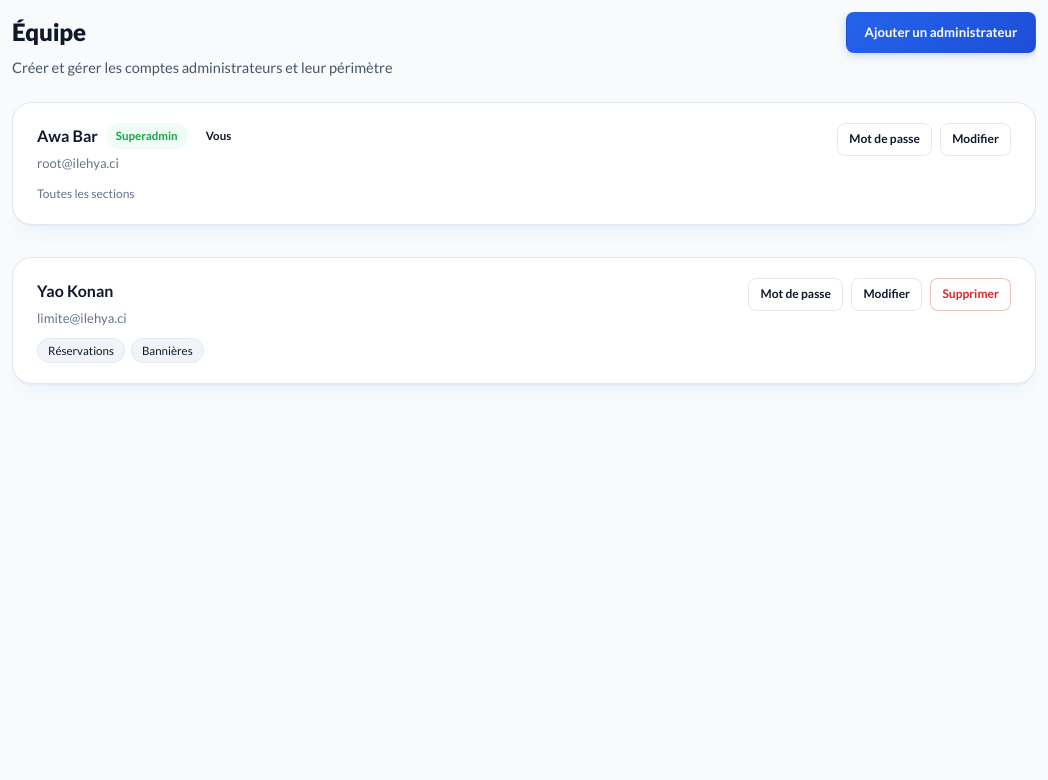
AdminEquipePage — modification du périmètre › masque les cases de sections quand le compte est promu superadmin
The image size is (1048, 780).
Check: the text "Yao Konan" is shown, box top-left (37, 278), bottom-right (113, 304)
Click the button "Modifier" in the row of "Konan": (887, 294) top-left (851, 278), bottom-right (922, 311)
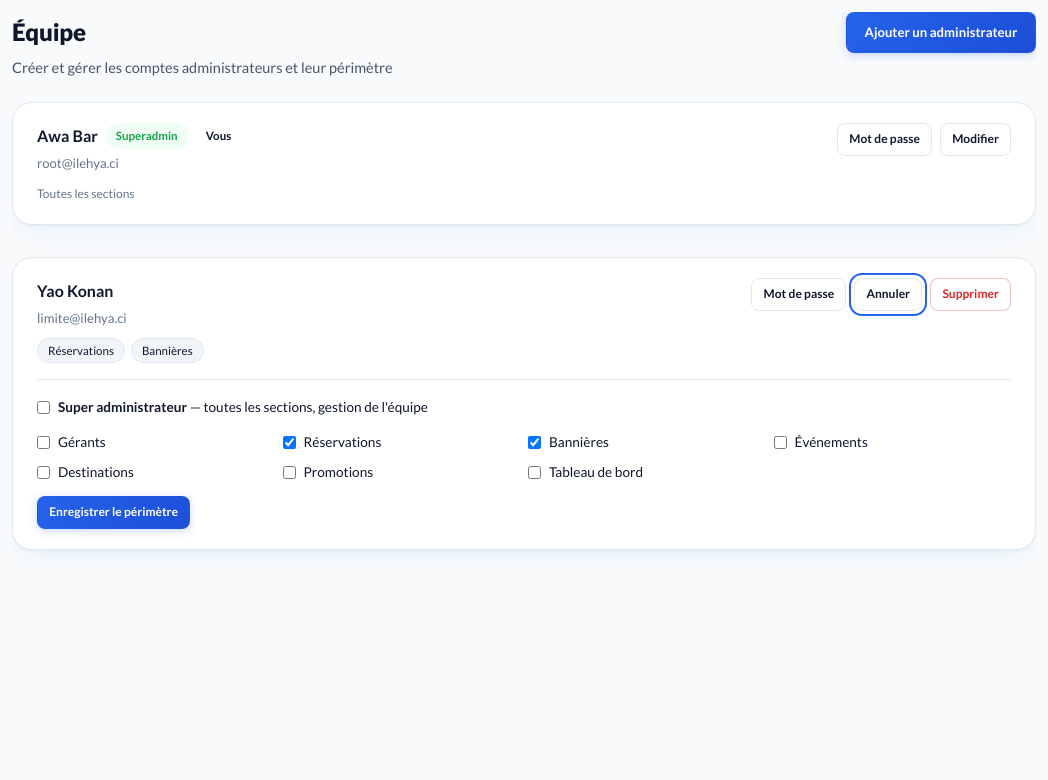
Click the checkbox labelled "Super administrateur": (44, 408) top-left (37, 401), bottom-right (50, 414)
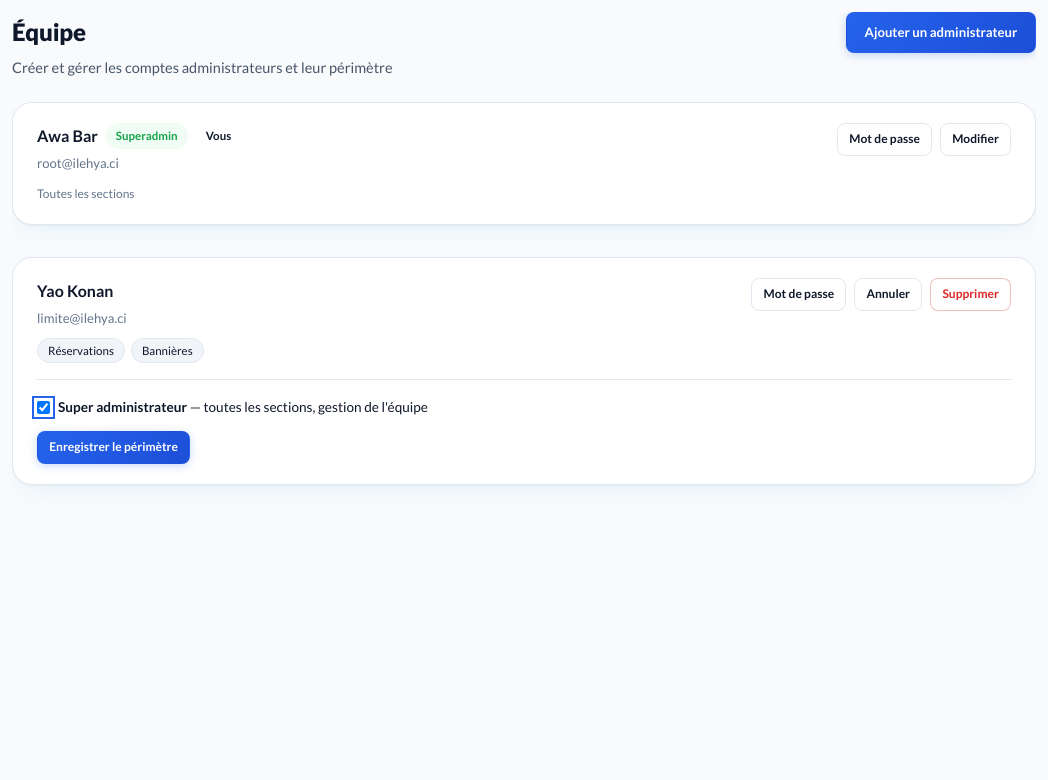
Check: the label "Gérants" is gone
